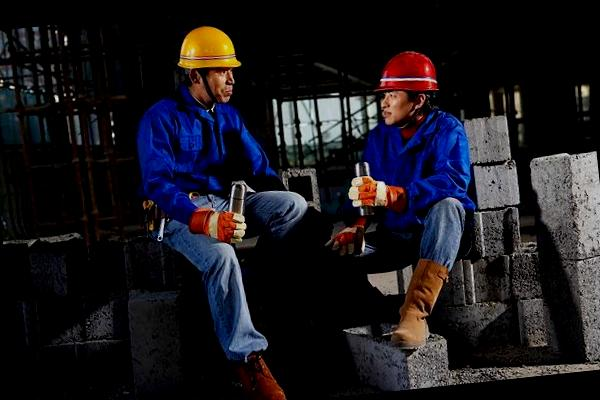helmet: (170, 20, 244, 77), (364, 46, 443, 98)
no_vest: (133, 97, 256, 209), (350, 115, 477, 223)
person: (120, 13, 338, 400), (308, 47, 492, 362)
